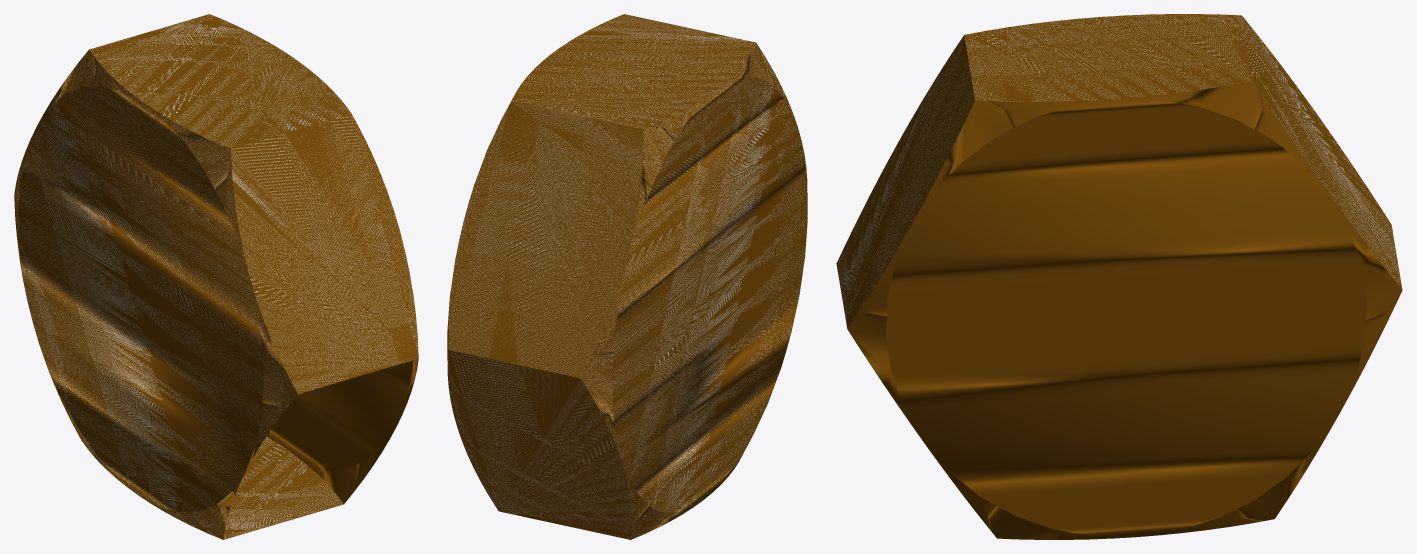
The model's file is original-2.obj.
The picture shows the model from 3 angles, left to right: view 1: azimuth 30°, elevation 25°; view 2: azimuth 150°, elevation 25°; view 3: azimuth 270°, elevation 25°; orthographic projection. The views are drawn at different scales.
Parts seen in each view (by area): view 1: Group1/mesh1/mesh1-geometry#mesh1-geometry; view 2: Group1/mesh1/mesh1-geometry#mesh1-geometry; view 3: Group1/mesh1/mesh1-geometry#mesh1-geometry.
Part boxes in pixels (bbox=[...]): Group1/mesh1/mesh1-geometry#mesh1-geometry: bbox=[14, 14, 418, 539]; Group1/mesh1/mesh1-geometry#mesh1-geometry: bbox=[447, 14, 807, 539]; Group1/mesh1/mesh1-geometry#mesh1-geometry: bbox=[836, 14, 1402, 539].
Bounding box in the file's own units: 0.0255 × 0.0546 × 0.0623.
